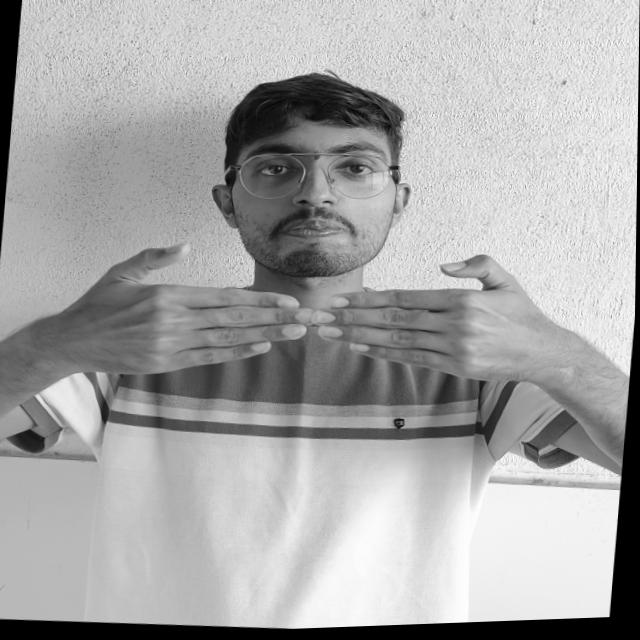Night: (13, 208, 632, 444)
